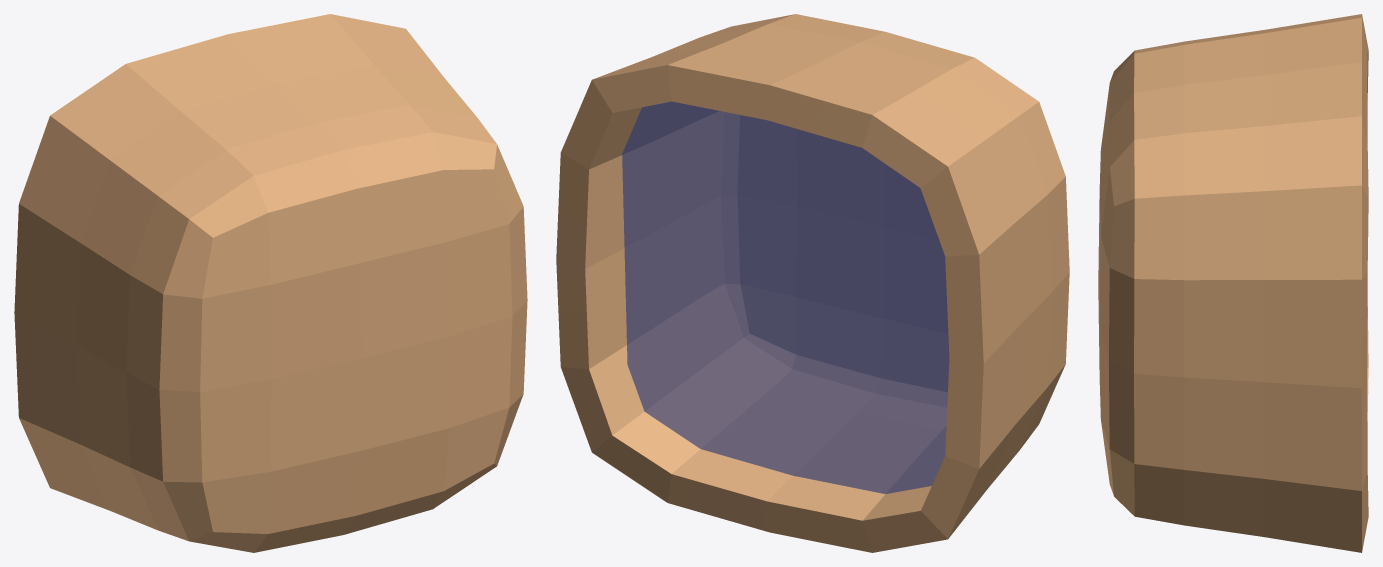
File: Waterbowl.fbx
3 views of the same model, side by side, from view 1: azimuth 30°, elevation 25°; view 2: azimuth 150°, elevation 25°; view 3: azimuth 270°, elevation 25° (orthographic).
Parts seen in each view (by area): view 1: Cube.002; view 2: Cube.002; view 3: Cube.002.
Part boxes in pixels (bbox=[...]): Cube.002: bbox=[14, 14, 527, 552]; Cube.002: bbox=[556, 14, 1069, 552]; Cube.002: bbox=[1098, 14, 1368, 552].
Size of the model in its own units: 277 by 277 by 154.
